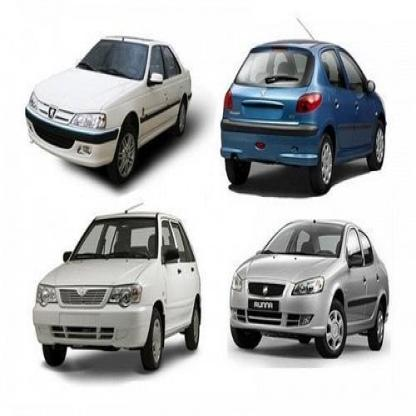Car: (32, 209, 204, 369), (19, 35, 197, 178), (214, 50, 385, 186), (226, 221, 395, 356)
